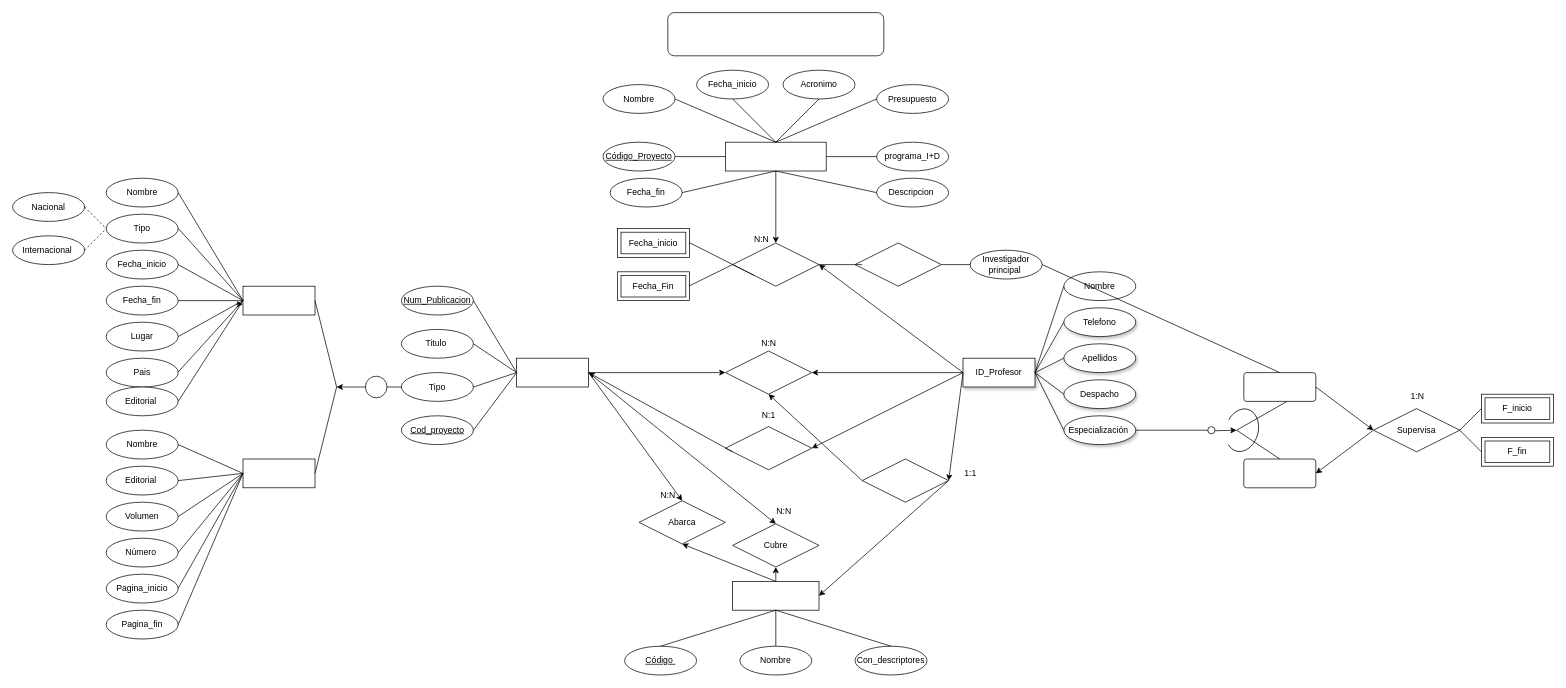
Image size: 1566x688. Some labels were removed from this diagram. Here are the shapes that lost their labels. From the top down, the centre of each, then its label:
At point 775,34: "Tercer taller PROYECTO DE INVESTIGACION".
At point 775,156: "ID_Proyecto_Investigacion".
At point 775,264: "Participa_en".
At point 897,264: "Debe_ser".
At point 278,300: "Congreso".
At point 552,372: "Publicación".
At point 768,372: "Escribe".
At point 1279,386: "Doctor".
At point 768,448: "Escribe_en_linea".
At point 278,473: "Revista".
At point 905,480: "Si_participa".
At point 1279,473: "No_Doctor".
At point 775,595: "Linea_investigacion".
